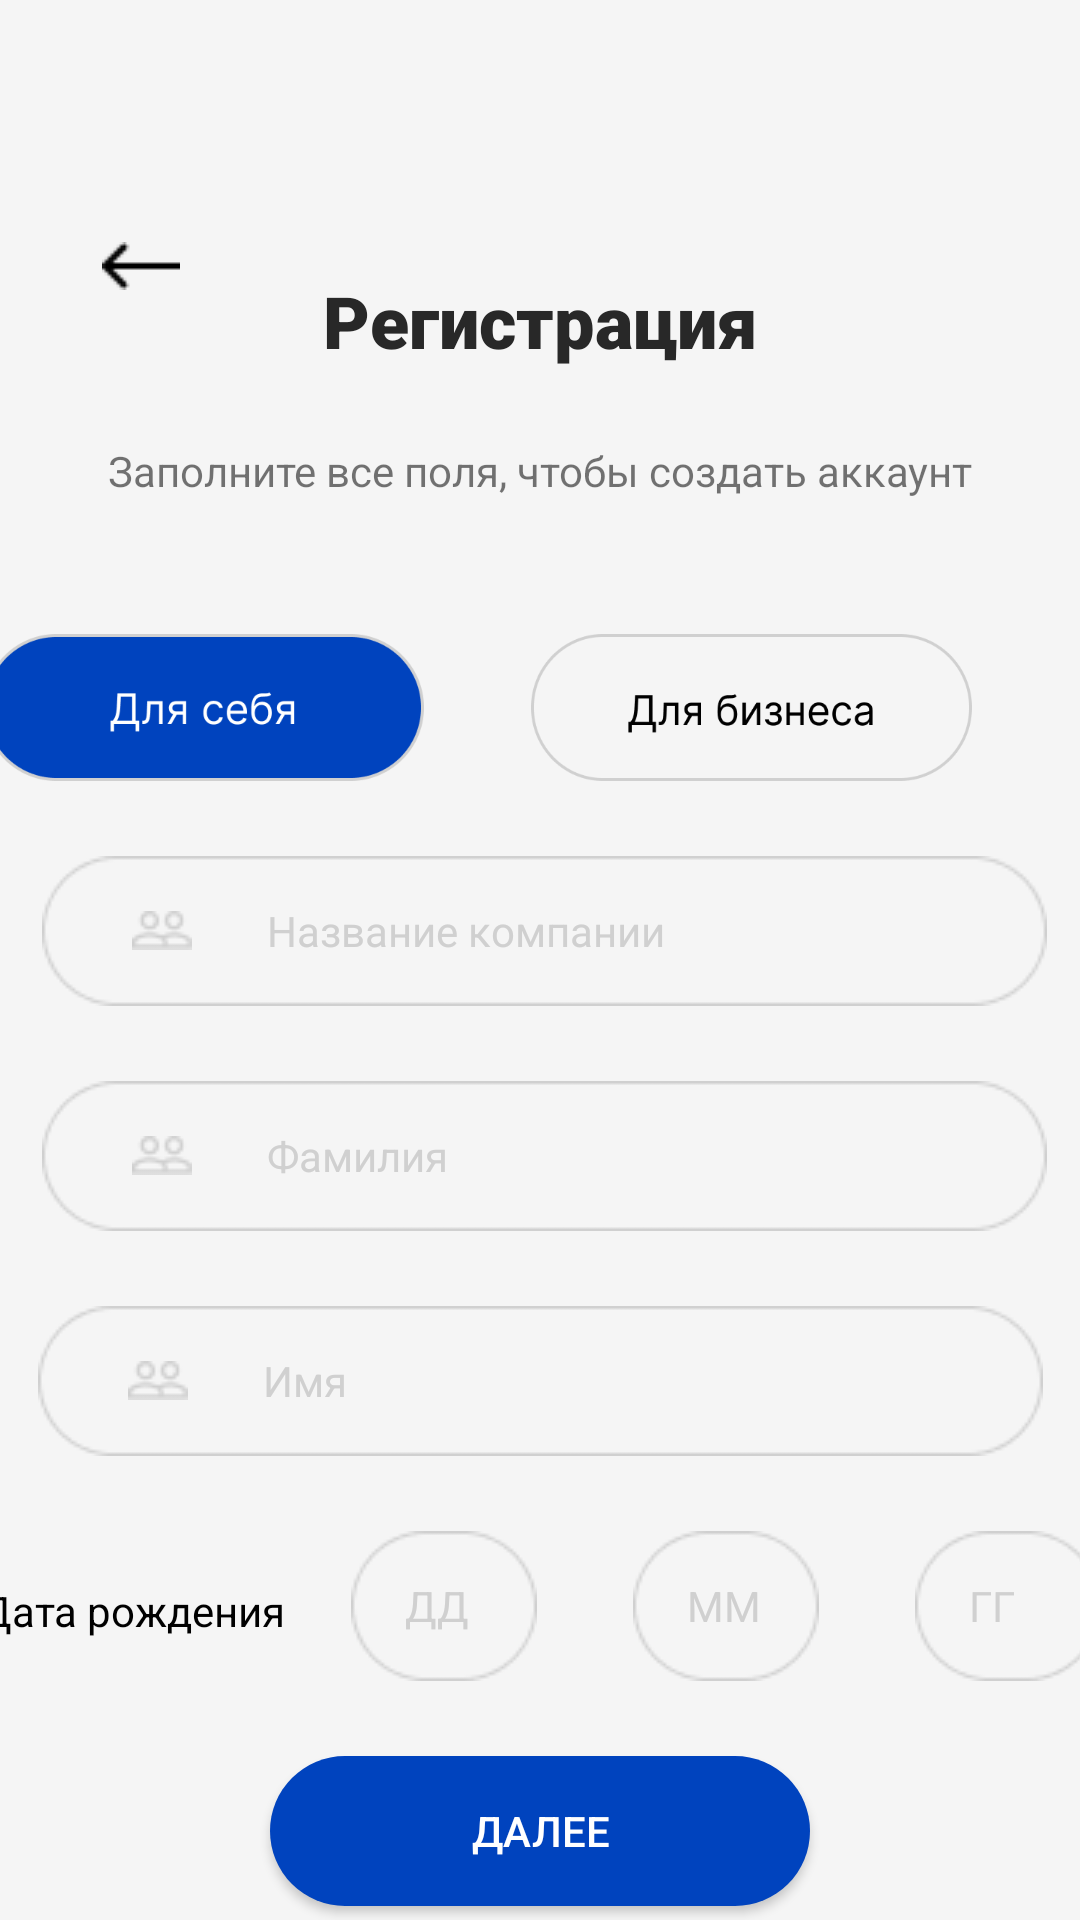

Screen size 1080×1920. Icon name, then its box in pixels as (x1, y1, x2, y2):
arrow left: (102, 242, 180, 290)
